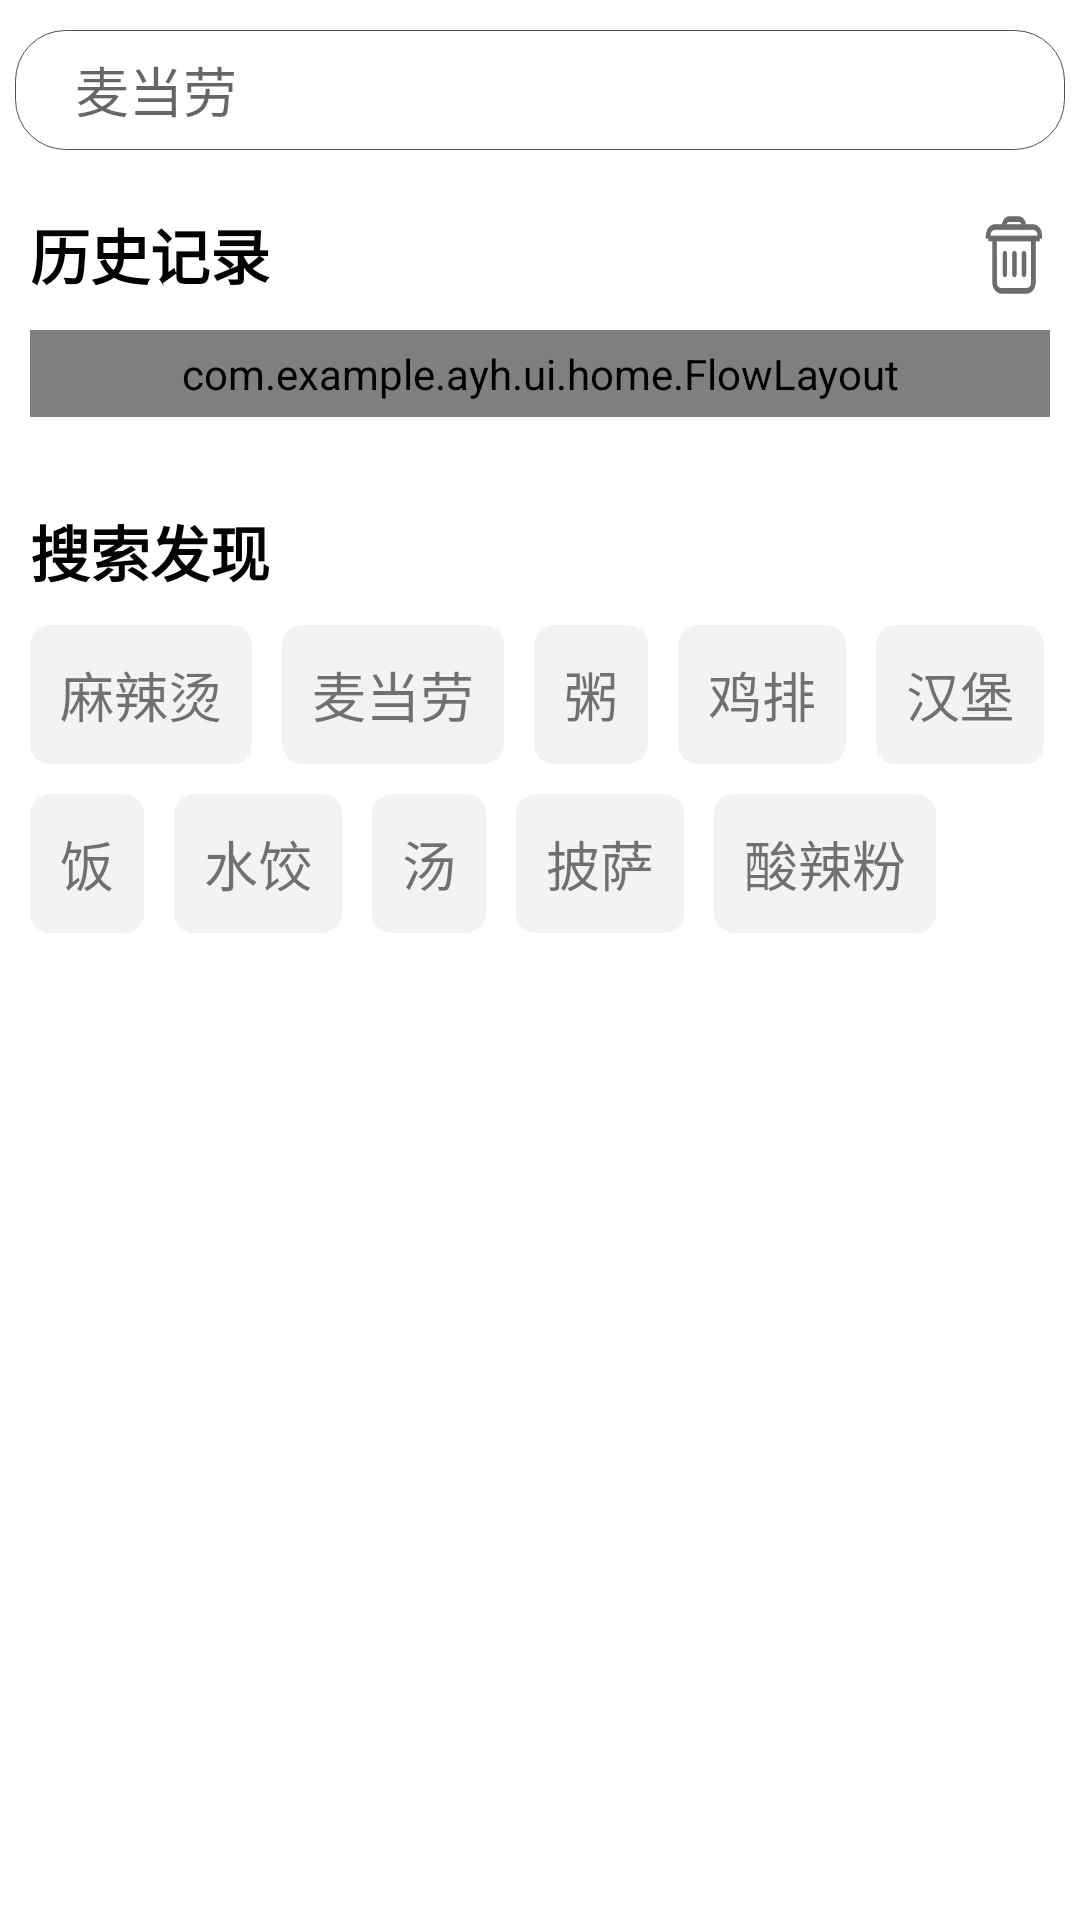

Screen size 1080px x 1920px. Icon name, then its center in pixels as (x=x, y=y):
clear: (x=1014, y=255)
